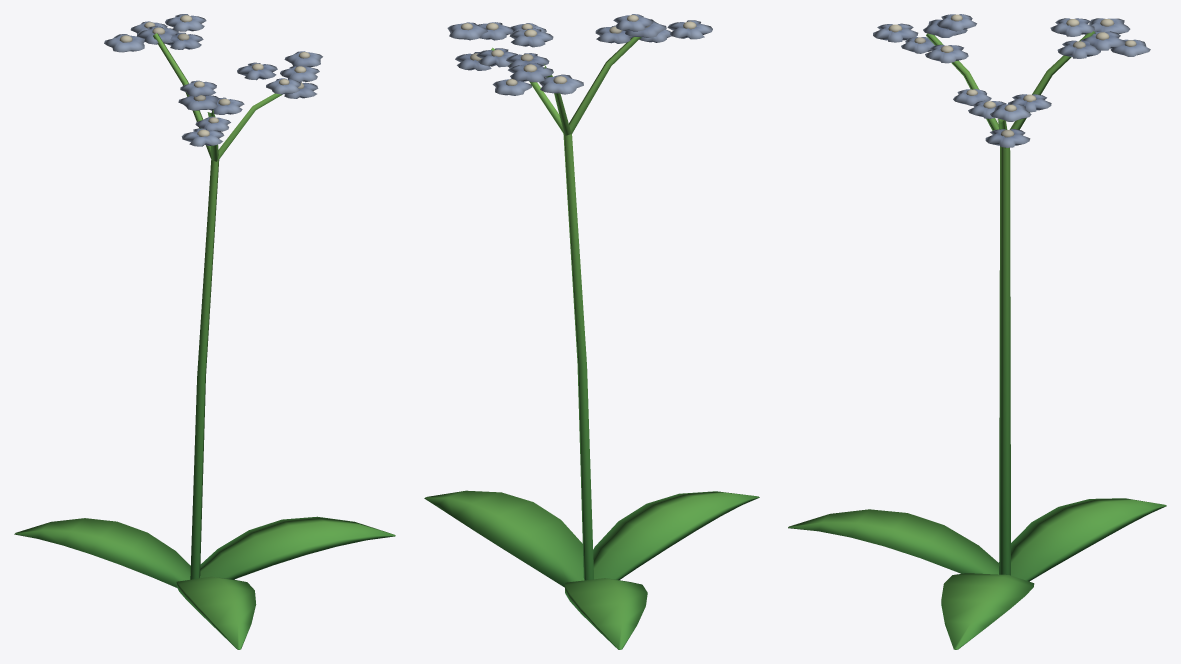
File: forget_me_not.glb
3 views of the same model, side by side, from view 1: azimuth 30°, elevation 25°; view 2: azimuth 150°, elevation 25°; view 3: azimuth 270°, elevation 25° (orthographic). The views are drawn at different scales.
Parts seen in each view (by area): view 1: forget_me_not; view 2: forget_me_not; view 3: forget_me_not.
Boxes of the visible parts, x1,y1,x2,y2 form: forget_me_not: (14,14,395,649); forget_me_not: (424,14,759,649); forget_me_not: (788,14,1166,649).
Size of the model in its own units: 0.0832 by 0.1536 by 0.0906.
